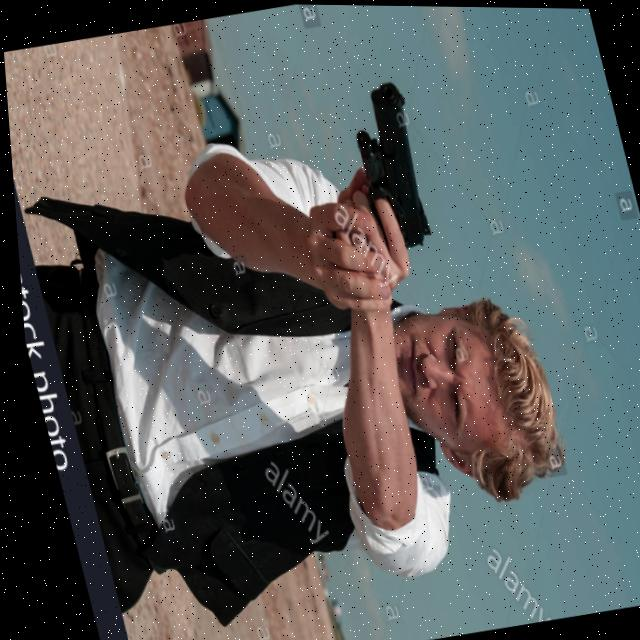pistol: (336, 78, 437, 251)
